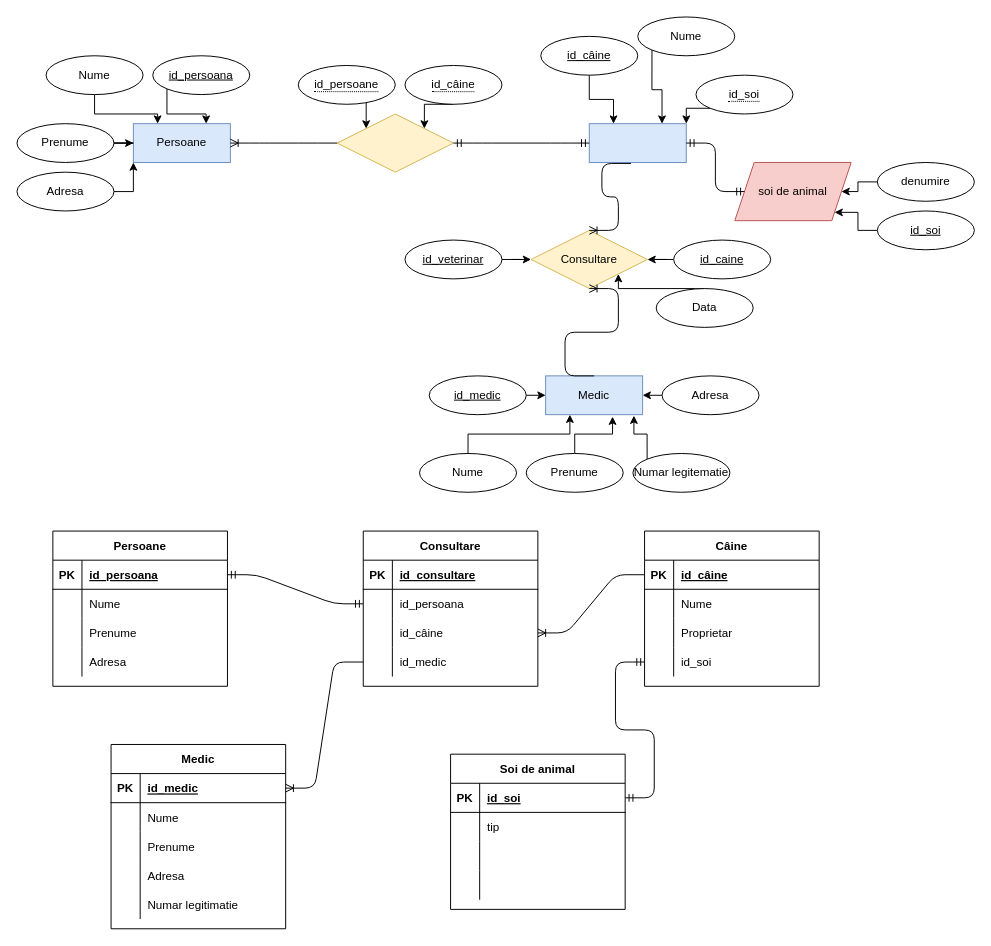
This 991x946 diagram has some shape labels left out. Here are the shapes that lost their labels. From the top down, the centre of each, then its label:
At point (394, 142): "Detine".
At point (637, 142): "Animale".
